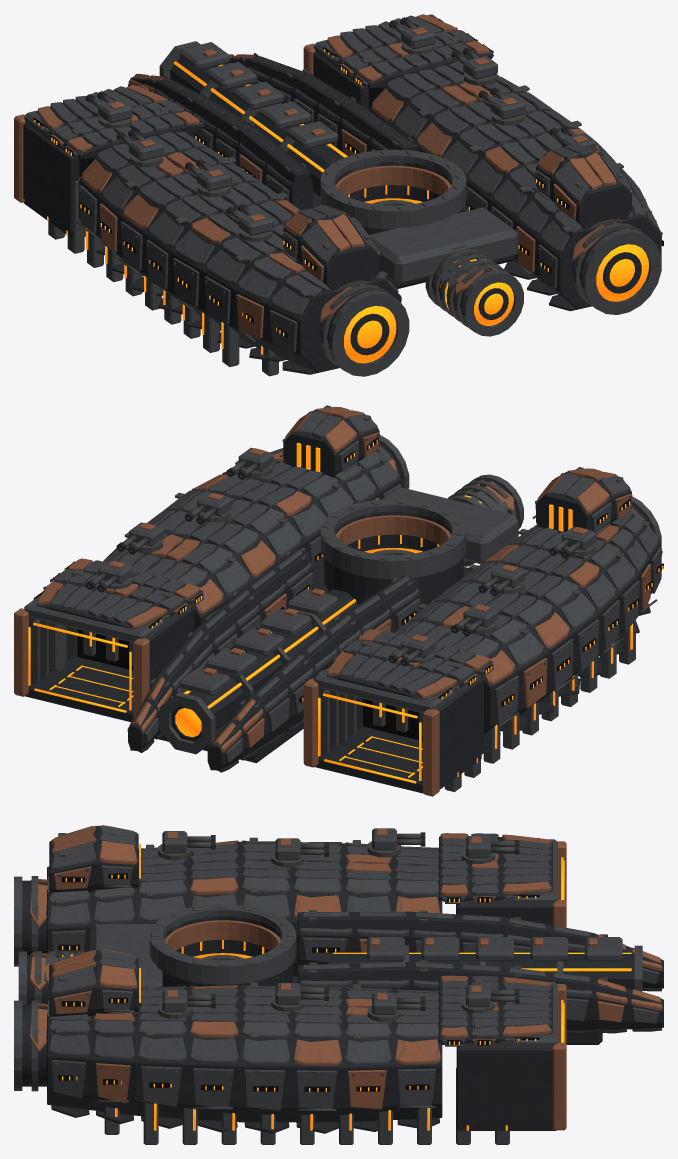
The model's file is siegebreaker.glb.
3 renders of one model, top to bottom at view 1: azimuth 30°, elevation 25°; view 2: azimuth 150°, elevation 25°; view 3: azimuth 270°, elevation 25°, orthographic.
Parts seen in each view (by area): view 1: Siegebreaker.001; view 2: Siegebreaker.001; view 3: Siegebreaker.001.
Boxes of the visible parts, x1,y1,x2,y2 form: Siegebreaker.001: (14, 14, 663, 376); Siegebreaker.001: (14, 405, 663, 796); Siegebreaker.001: (14, 825, 663, 1144).
Size of the model in its own units: 7.26 by 2.37 by 9.26.
Materials: 6 (6 with a texture image).
